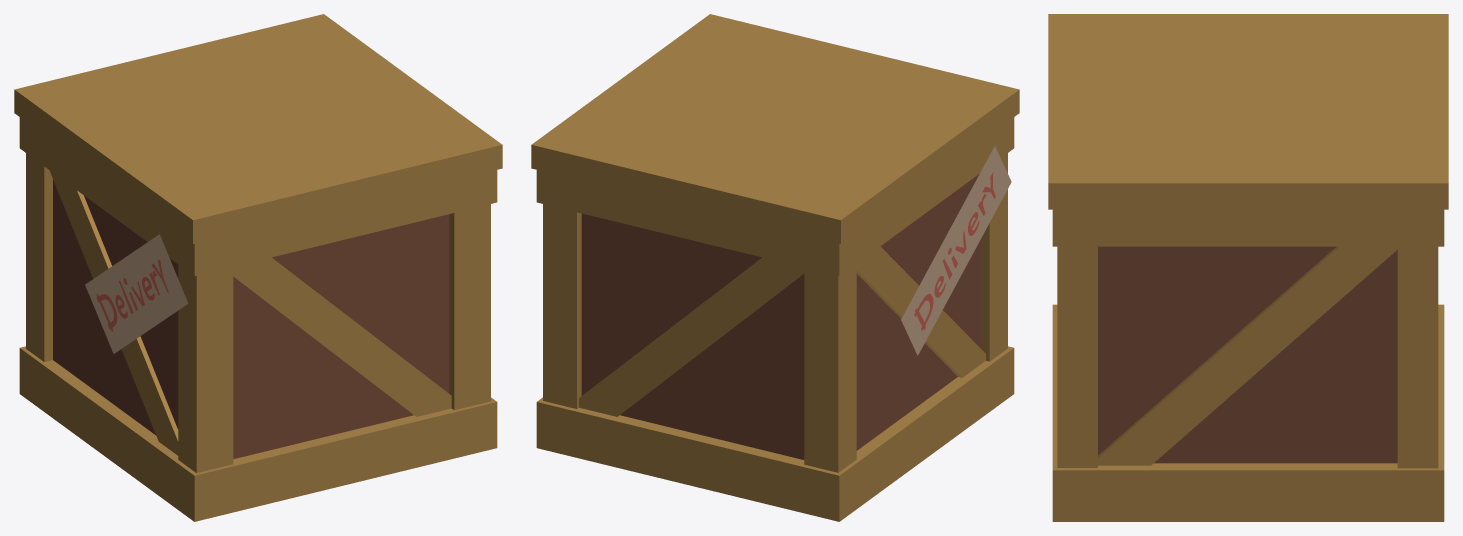
3 renders of one model, left to right at view 1: azimuth 30°, elevation 25°; view 2: azimuth 150°, elevation 25°; view 3: azimuth 270°, elevation 25°, orthographic. The views are drawn at different scales.
Parts seen in each view (by area): view 1: BR_BOX_01; view 2: BR_BOX_01; view 3: BR_BOX_01.
Boxes of the visible parts, x1,y1,x2,y2 form: BR_BOX_01: (14,14,502,521); BR_BOX_01: (531,14,1019,521); BR_BOX_01: (1048,14,1448,521).
Bounding box in the file's own units: 193 × 181 × 191.
